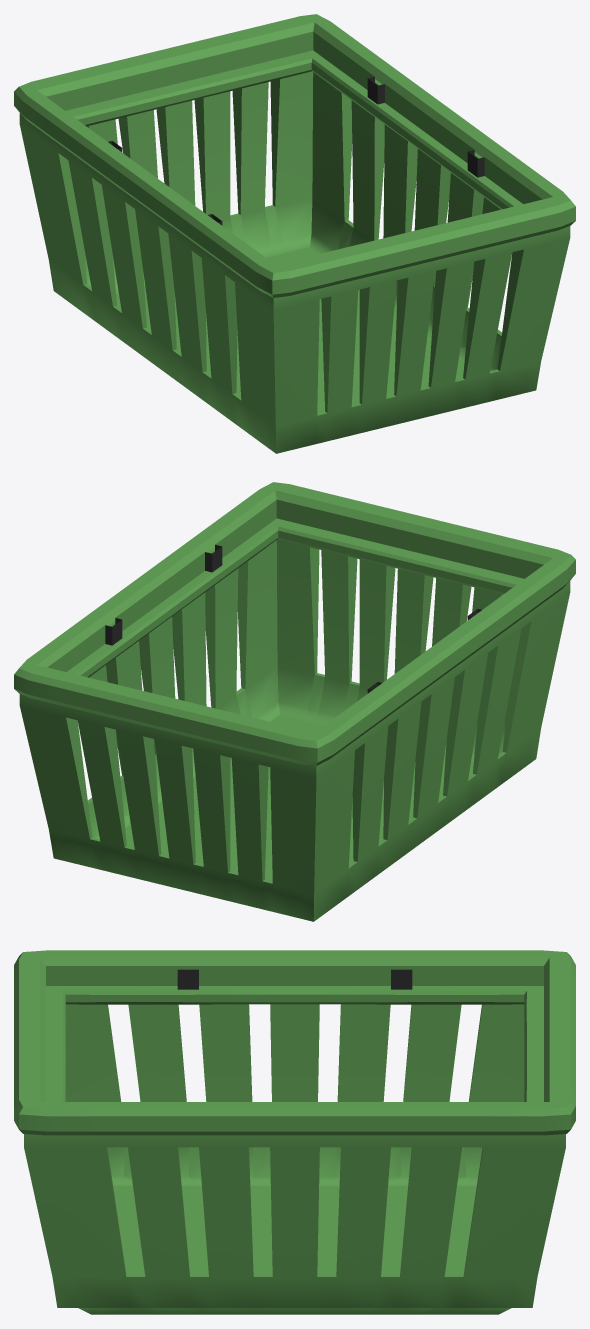
File: basketnohandle.fbx
3 views of the same model, one above another, from view 1: azimuth 30°, elevation 25°; view 2: azimuth 150°, elevation 25°; view 3: azimuth 270°, elevation 25° (orthographic). The views are drawn at different scales.
Parts seen in each view (by area): view 1: pCube55; view 2: pCube55; view 3: pCube55.
Part boxes in pixels (box(x1,y1,x2,y2)): pCube55: box(14, 14, 575, 453); pCube55: box(14, 482, 575, 921); pCube55: box(14, 950, 575, 1314).
Bounding box in the file's own units: 4.09 × 2.67 × 6.
Materials: 1 (1 with a texture image).
